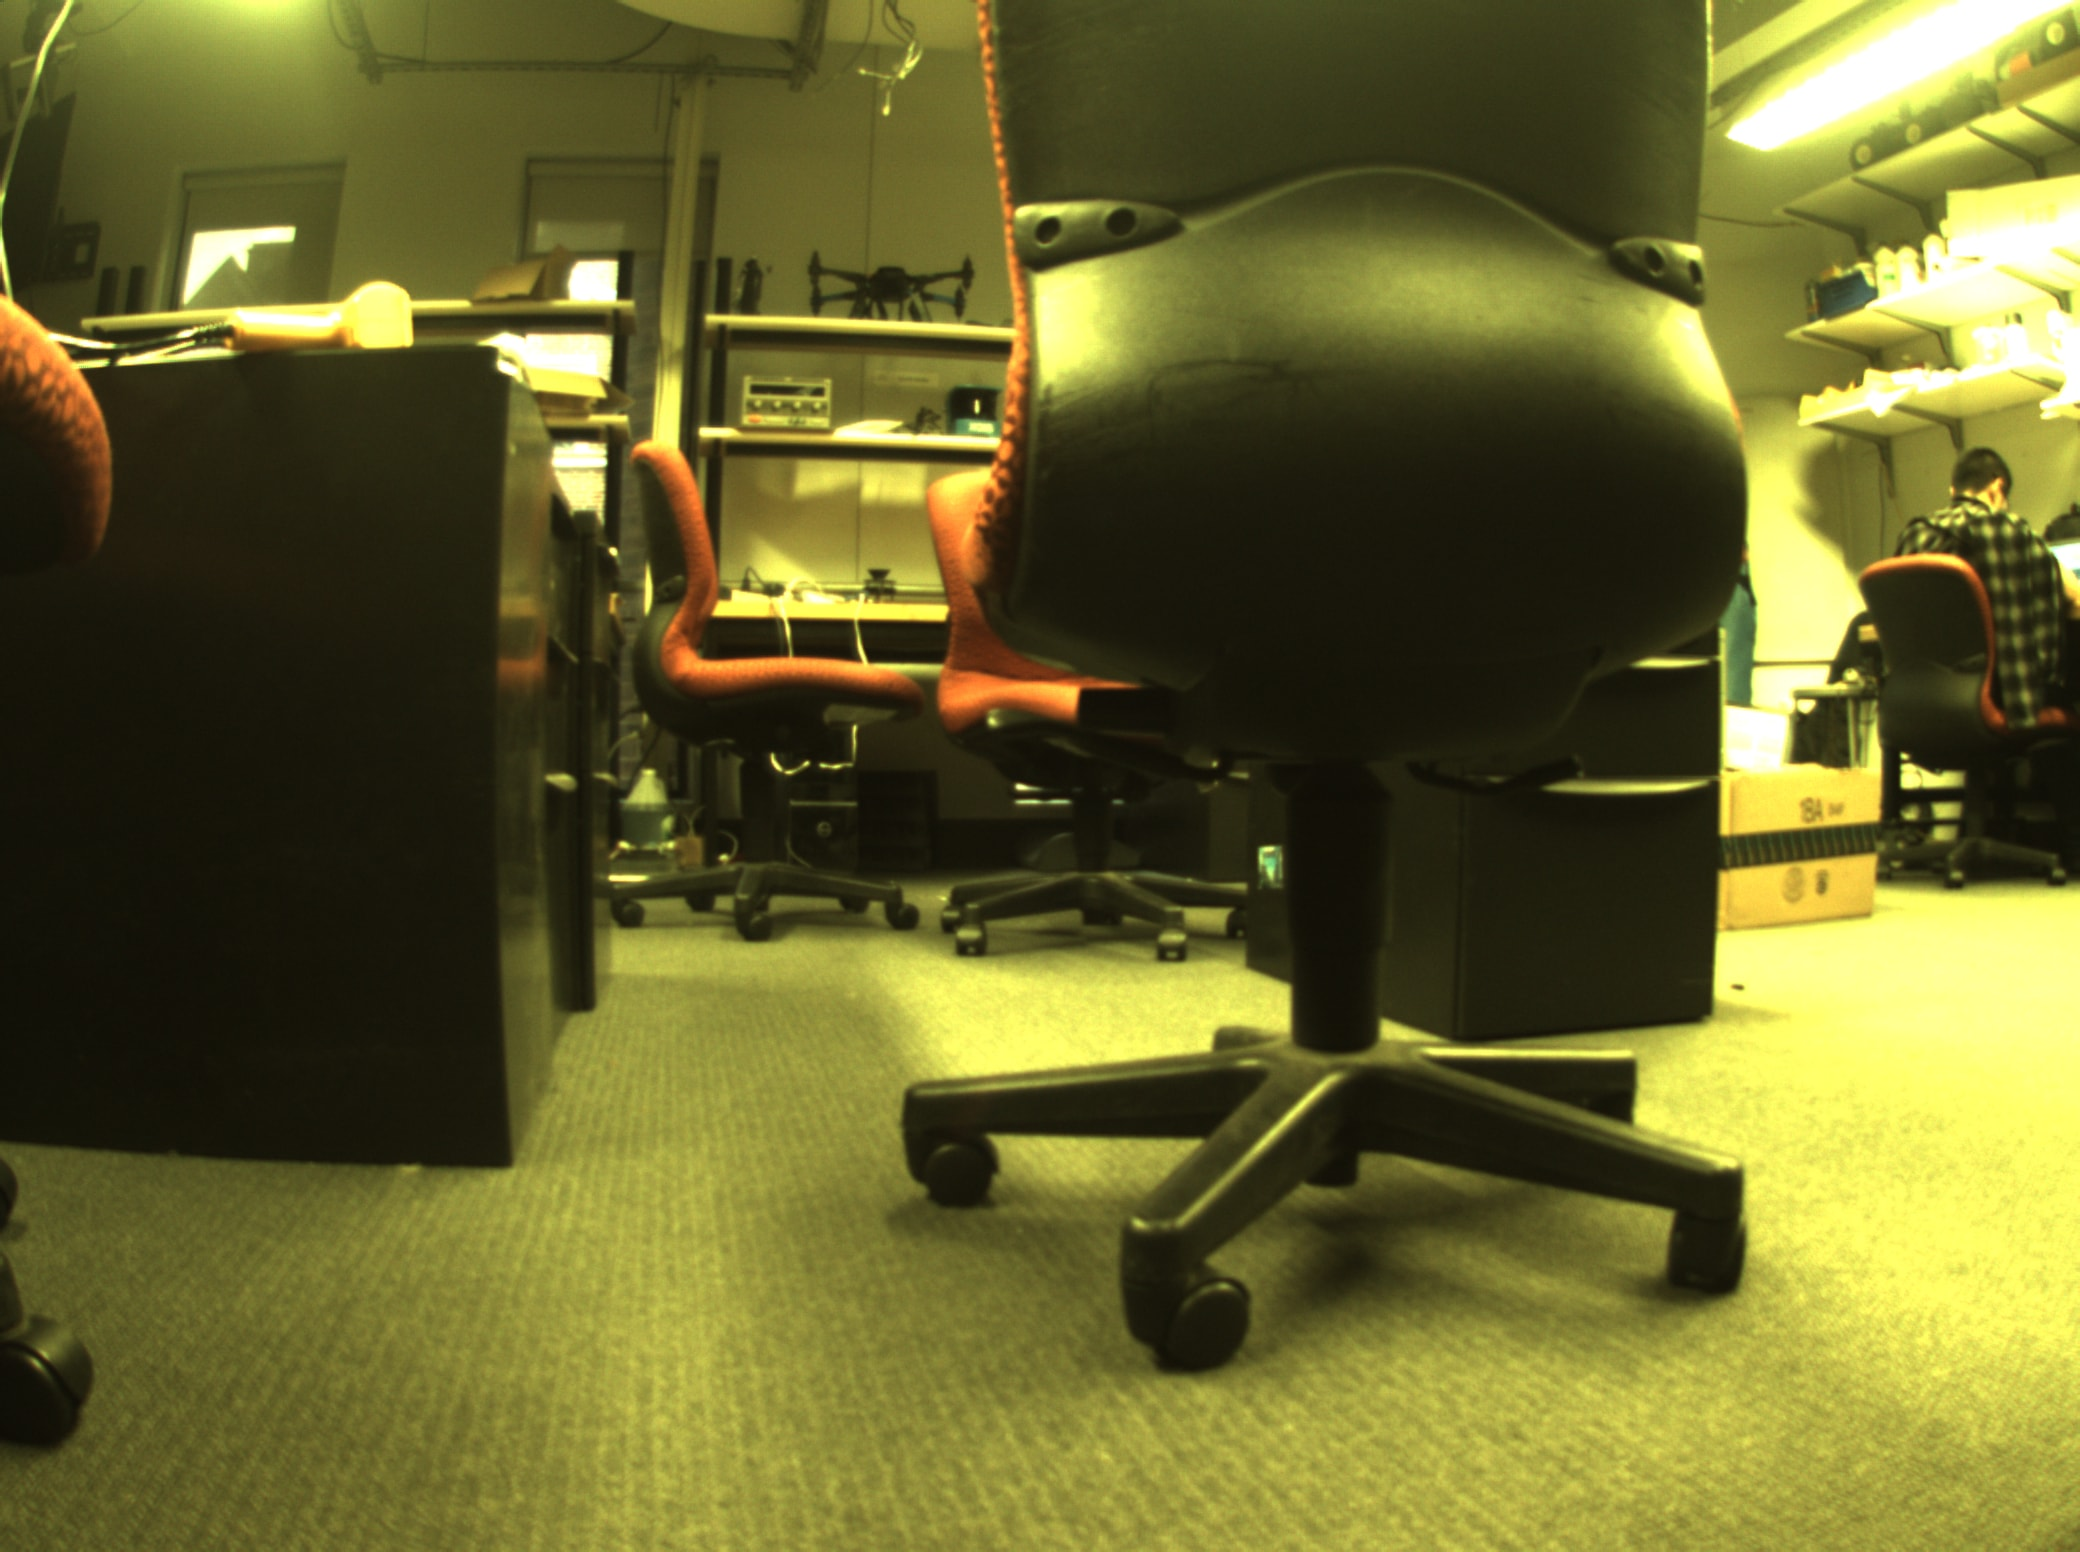chair: (893, 3, 1793, 1420), (905, 439, 1278, 990), (597, 401, 916, 950), (1855, 543, 2065, 902)
